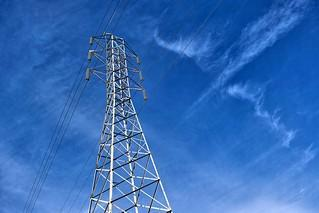power_tower: (69, 27, 174, 213)
